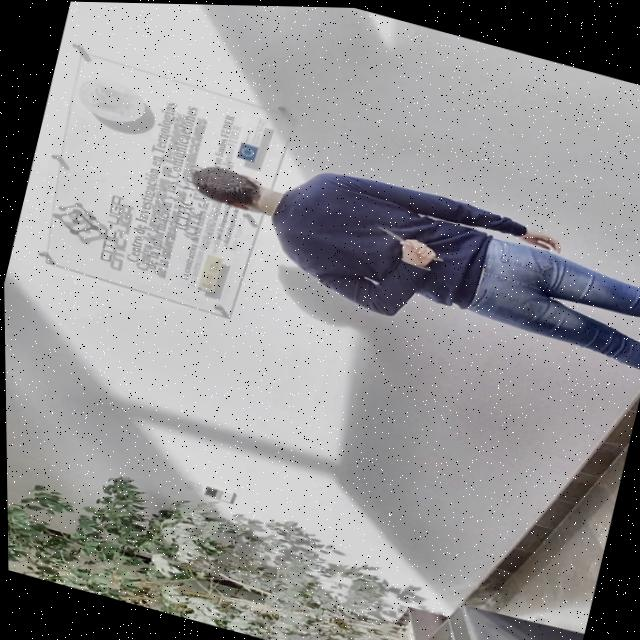knife: (373, 220, 407, 240)
